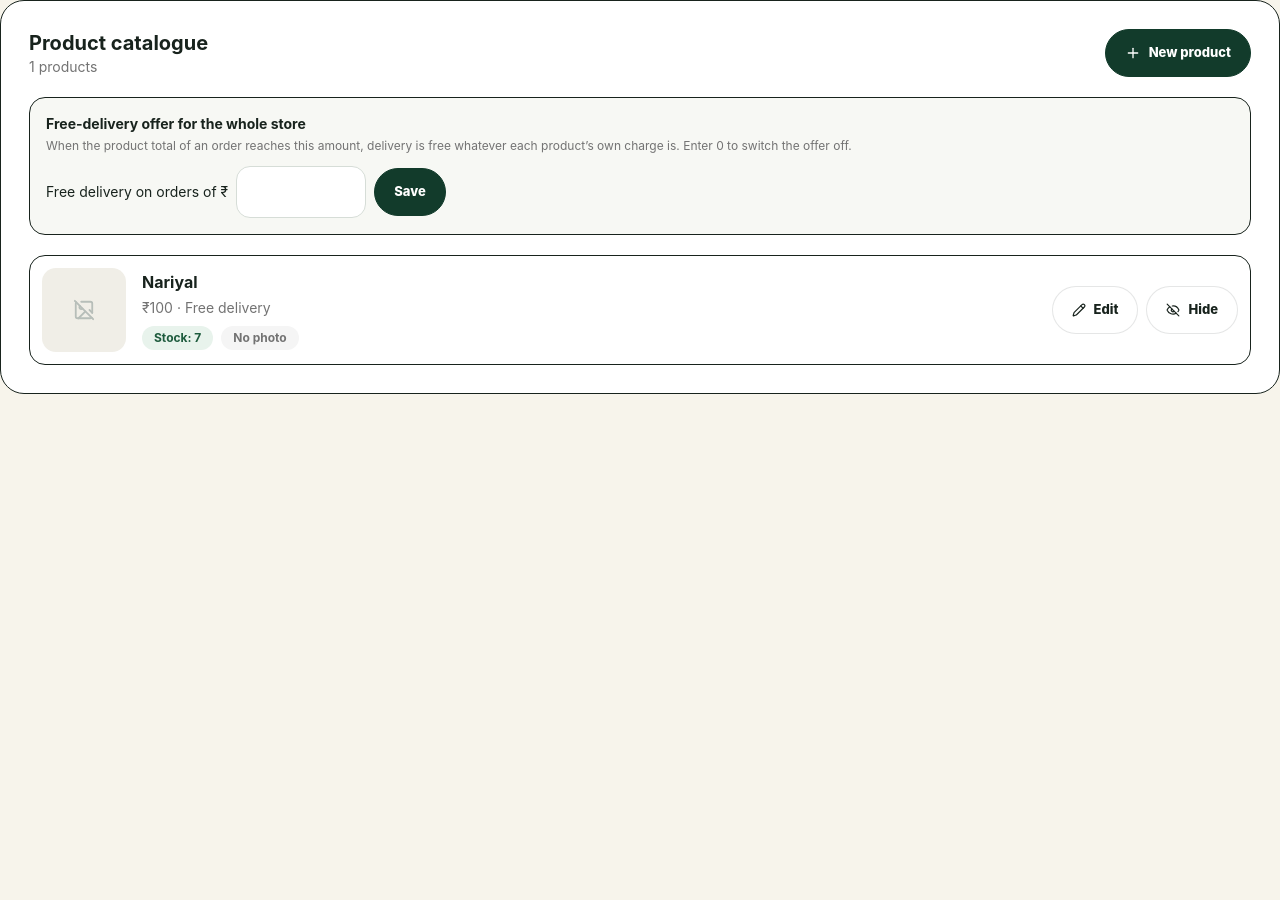
Scenario: ProductsAdmin form › edit form is prefilled and the placeholder description is blanked
This screenshot has width=1280, height=900.
Click the button "Edit" at (1095, 310), box [1052, 286, 1138, 334]
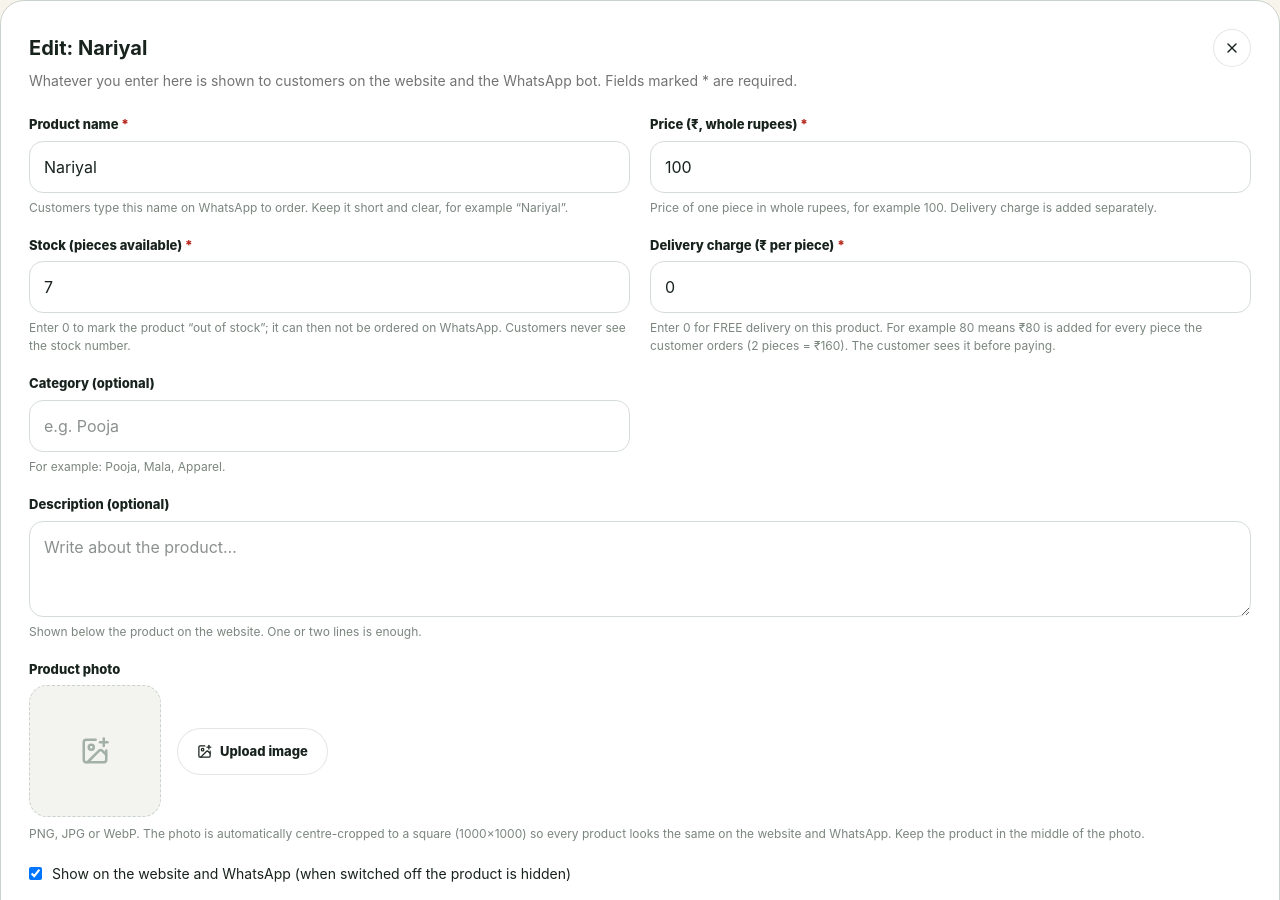
Check: the field showing "Nariyal" is shown, box [29, 140, 630, 192]
Check: the field showing "100" is shown, box [650, 140, 1251, 192]
Check: the field showing "7" is shown, box [29, 261, 630, 313]
